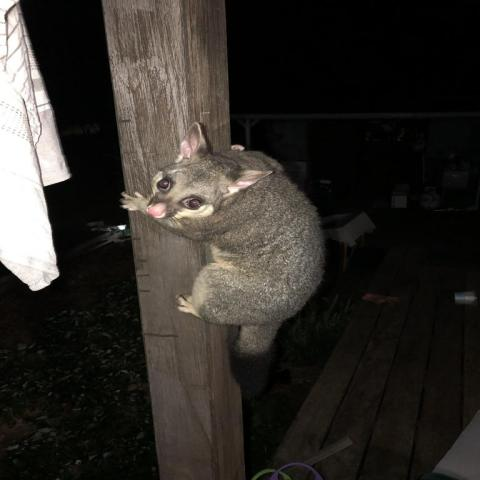small_animal: (118, 121, 327, 401)
